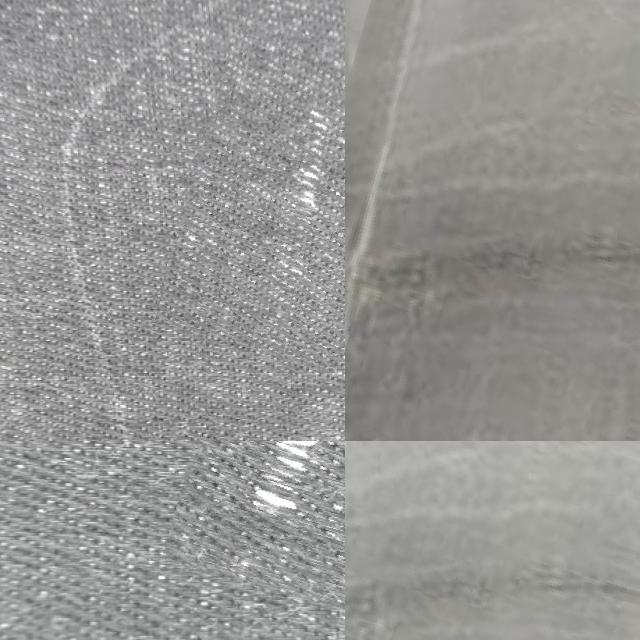stains: (345, 0, 640, 441), (170, 25, 345, 363), (345, 441, 640, 640), (189, 441, 345, 604)
